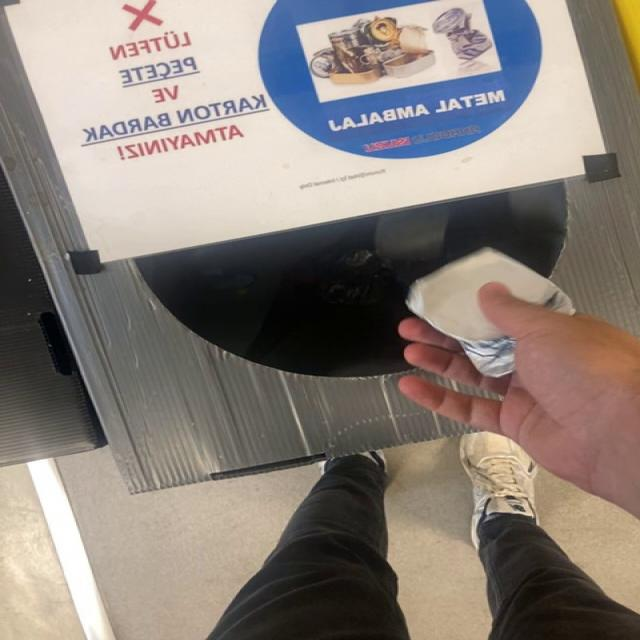bin: (0, 0, 639, 494)
metal: (407, 248, 576, 378)
